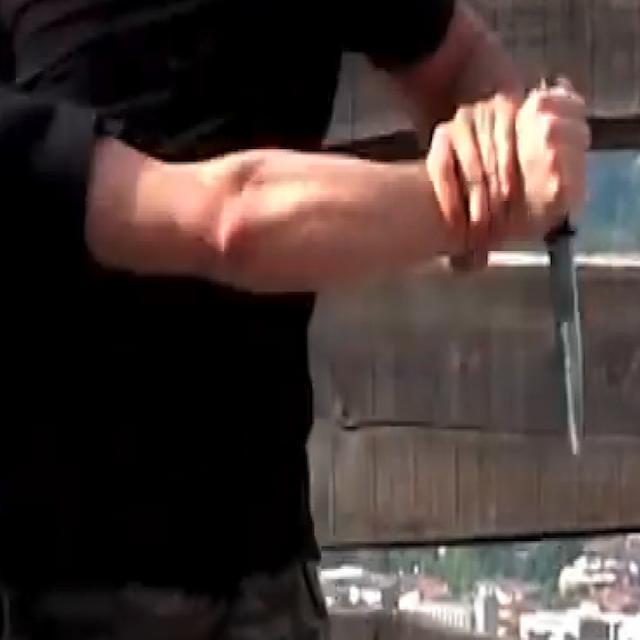suspicion: (4, 57, 600, 470), (542, 222, 588, 462), (534, 62, 576, 90)
